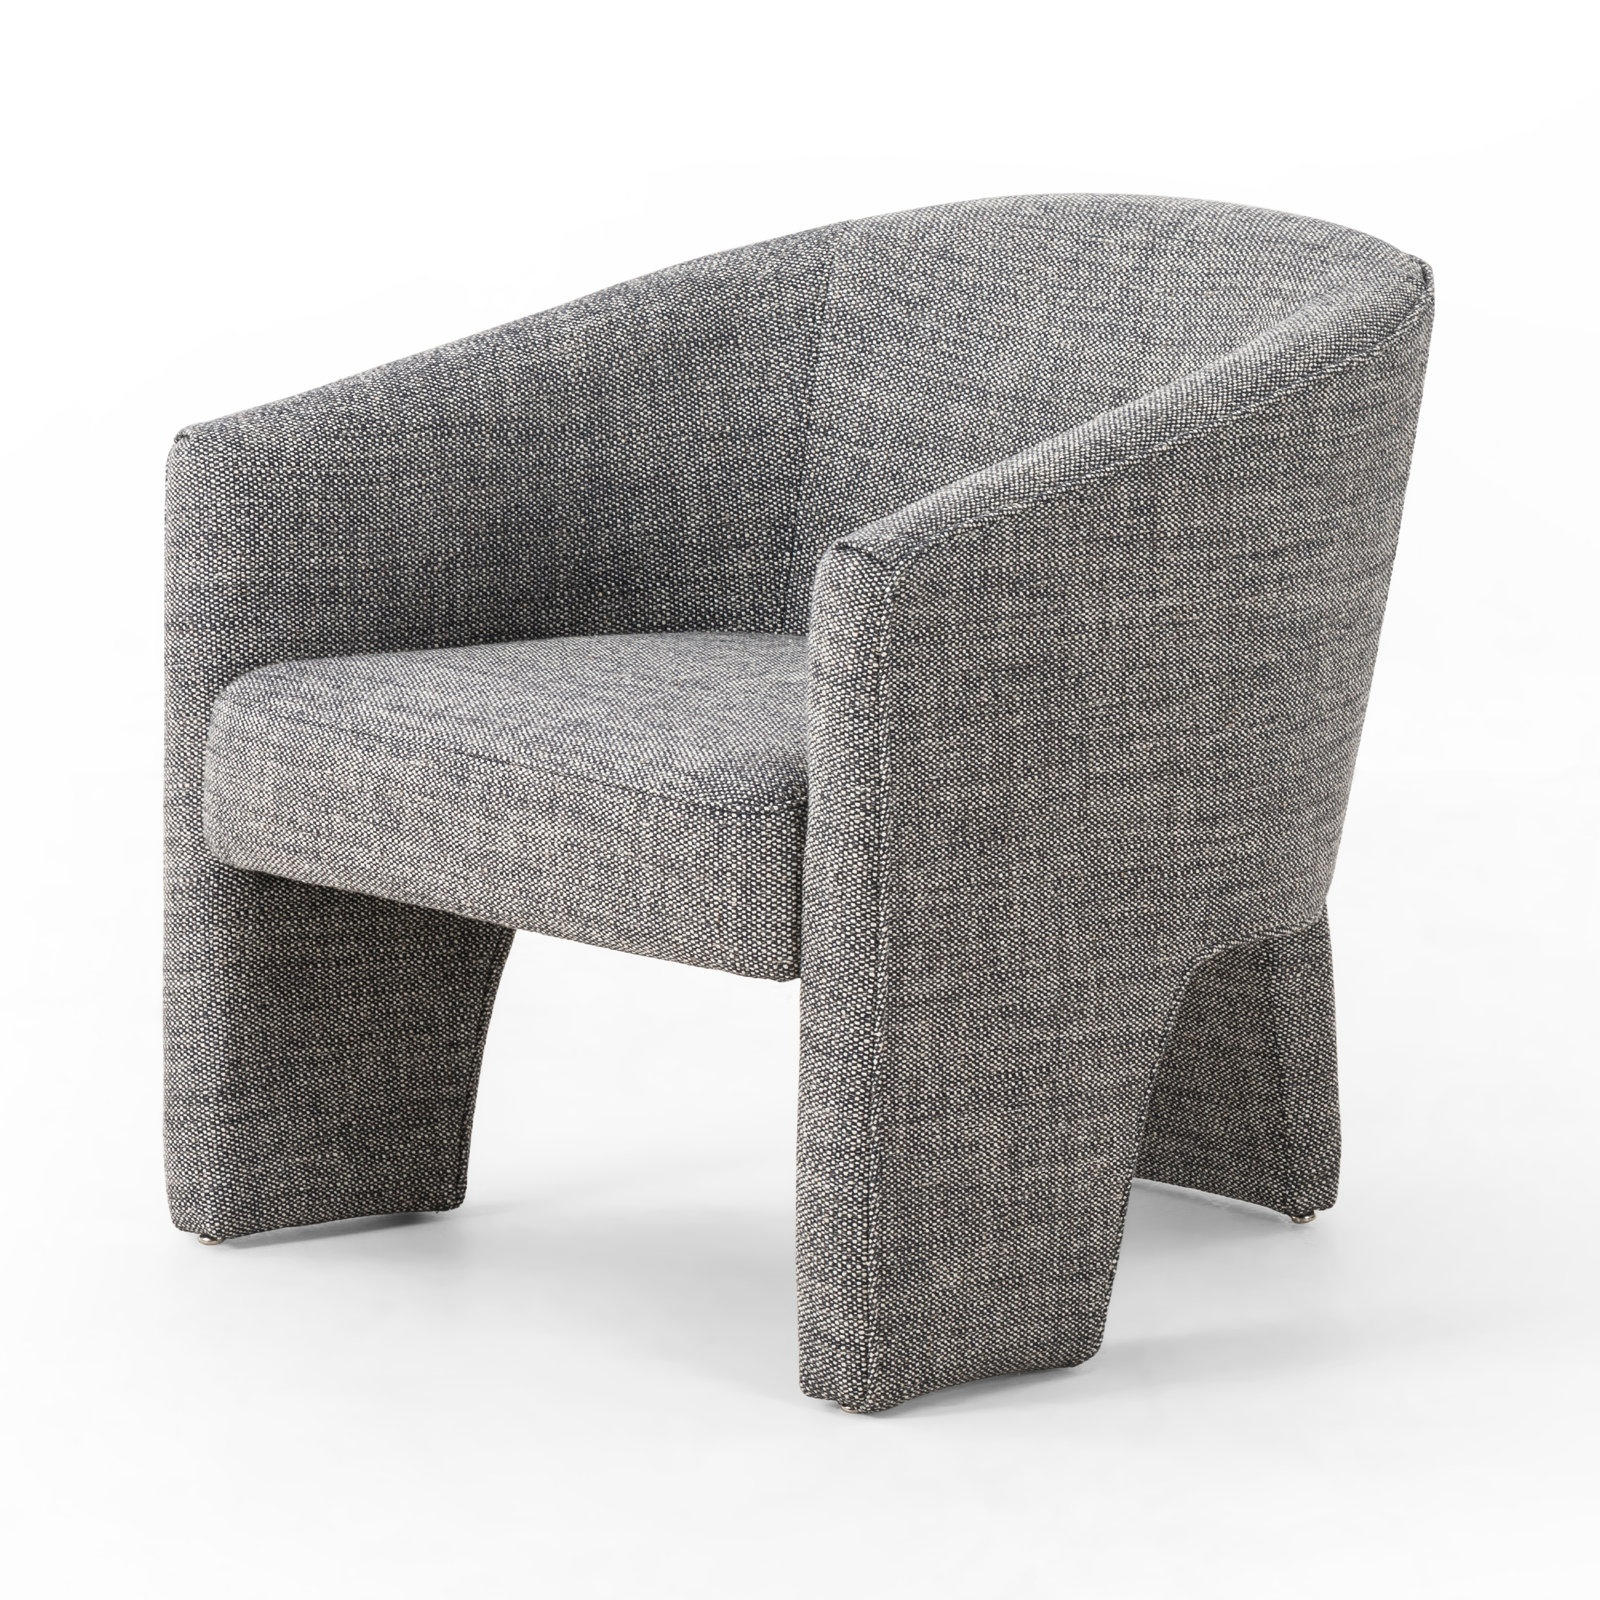obstacle: (166, 196, 1432, 1410)
